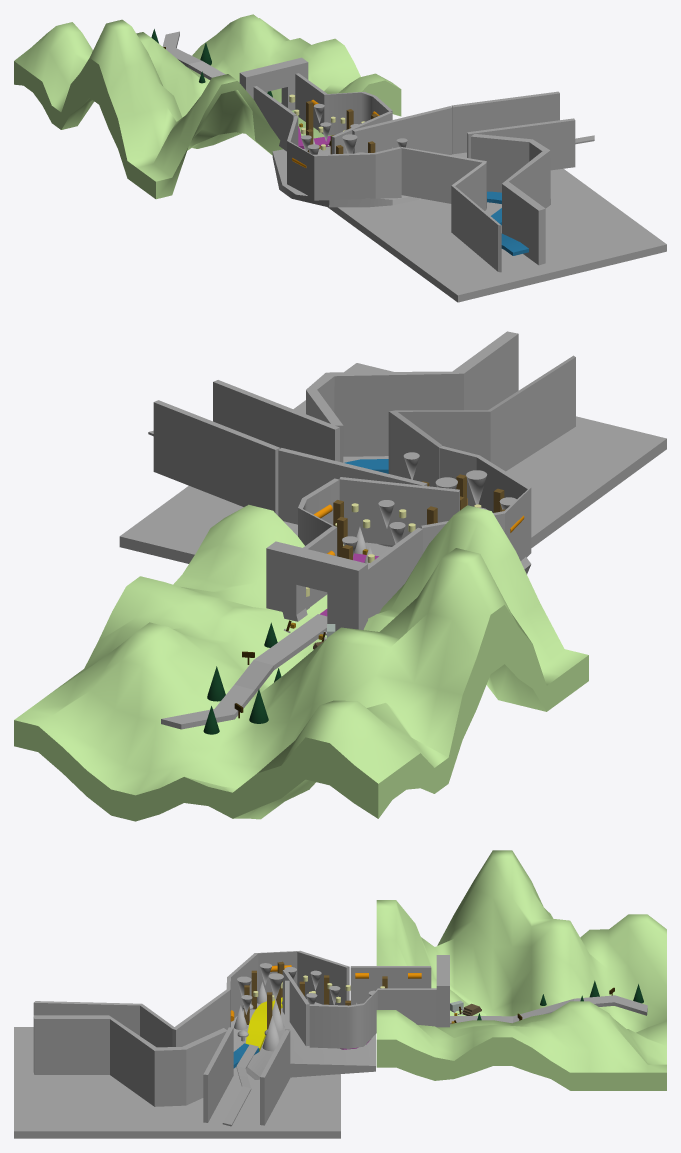
The model's file is mine scene 1.fbx.
3 renders of one model, top to bottom at view 1: azimuth 30°, elevation 25°; view 2: azimuth 150°, elevation 25°; view 3: azimuth 270°, elevation 25°, orthographic. The views are drawn at different scales.
Parts seen in each view (by area): view 1: hills, pCube23, pCube19, pCube22, pCube14, pCube20, pCube18, pCube21, mine_wall_entrance, pCube17, floor, pCube15 (+4 smaller); view 2: hills, pCube23, pCube22, pCube19, pCube20, mine_wall_entrance, pCube21, pCube13, pCube14, opening_track, pCube18, pCube15 (+2 smaller); view 3: hills, pCube23, pCube22, pCube19, floor, pCube14, pCube17, pCube15, pCube16, pCube21, pCube20, opening_track (+4 smaller).
Part boxes in pixels (x1,y1,x2,y2): hills: [14, 14, 401, 199]; pCube23: [328, 152, 666, 302]; pCube19: [400, 146, 501, 272]; pCube22: [471, 134, 550, 265]; pCube14: [287, 115, 401, 200]; pCube20: [451, 91, 559, 154]; pCube18: [352, 106, 452, 154]; pCube21: [467, 118, 575, 170]; mine_wall_entrance: [239, 57, 308, 110]; pCube17: [324, 91, 392, 135]; floor: [272, 146, 420, 207]; pCube15: [253, 86, 296, 151]; hills: [14, 504, 588, 821]; pCube23: [119, 363, 666, 563]; pCube22: [306, 331, 518, 462]; pCube19: [388, 355, 575, 487]; pCube20: [153, 400, 280, 515]; mine_wall_entrance: [266, 541, 367, 631]; pCube21: [213, 380, 339, 461]; pCube13: [339, 477, 459, 545]; pCube14: [421, 446, 531, 560]; opening_track: [161, 614, 327, 729]; pCube18: [278, 448, 427, 546]; pCube15: [368, 527, 422, 618]; hills: [376, 850, 666, 1090]; pCube23: [14, 1027, 340, 1138]; pCube22: [33, 1015, 226, 1106]; pCube19: [33, 989, 230, 1047]; floor: [231, 999, 375, 1079]; pCube14: [226, 950, 349, 1027]; pCube17: [309, 988, 377, 1048]; pCube15: [350, 966, 431, 1005]; pCube16: [378, 988, 436, 1027]; pCube21: [203, 1027, 233, 1122]; pCube20: [260, 1030, 290, 1125]; opening_track: [450, 995, 647, 1024].
Bounding box in the file's own units: 1772 × 710 × 2663.
